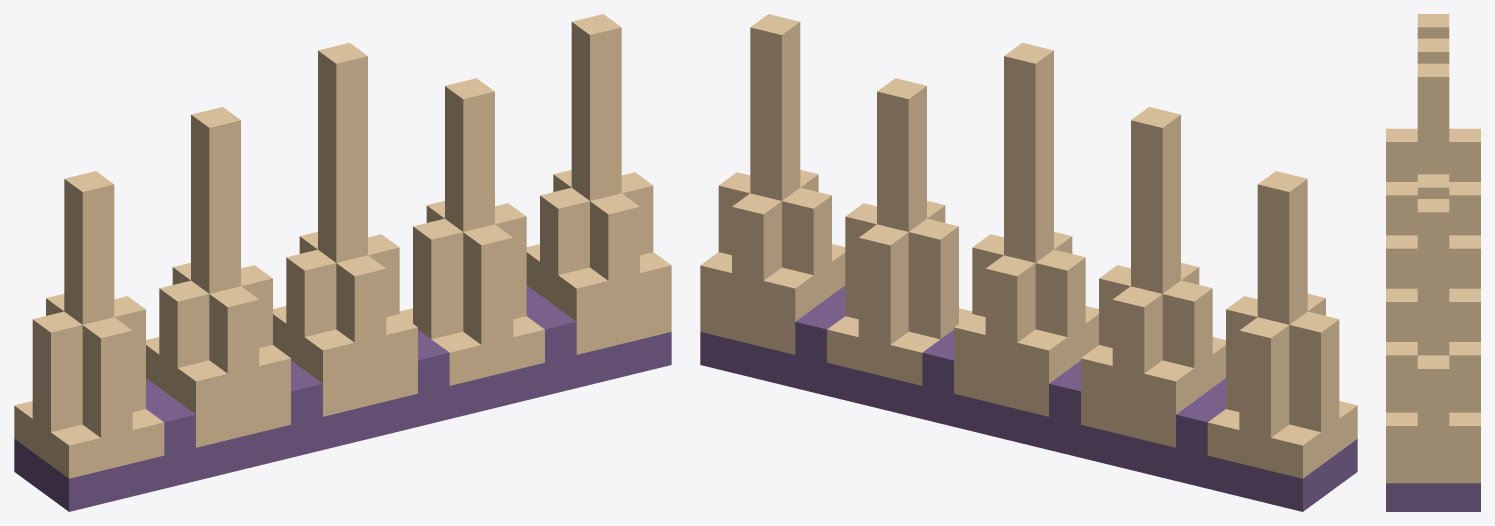
Rendered from alien-biosphere-spine-barrier-487ab065__22819.glb.
3 renders of one model, left to right at view 1: azimuth 30°, elevation 25°; view 2: azimuth 150°, elevation 25°; view 3: azimuth 270°, elevation 25°, orthographic. The views are drawn at different scales.
Visible parts, largest first — view 1: spine-barrier; view 2: spine-barrier; view 3: spine-barrier.
Boxes of the visible parts, bbox=[...] form: spine-barrier: bbox=[14, 14, 671, 511]; spine-barrier: bbox=[700, 14, 1357, 511]; spine-barrier: bbox=[1386, 14, 1480, 511].
Bounding box in the file's own units: 3.8 × 2.2 × 0.5998.
